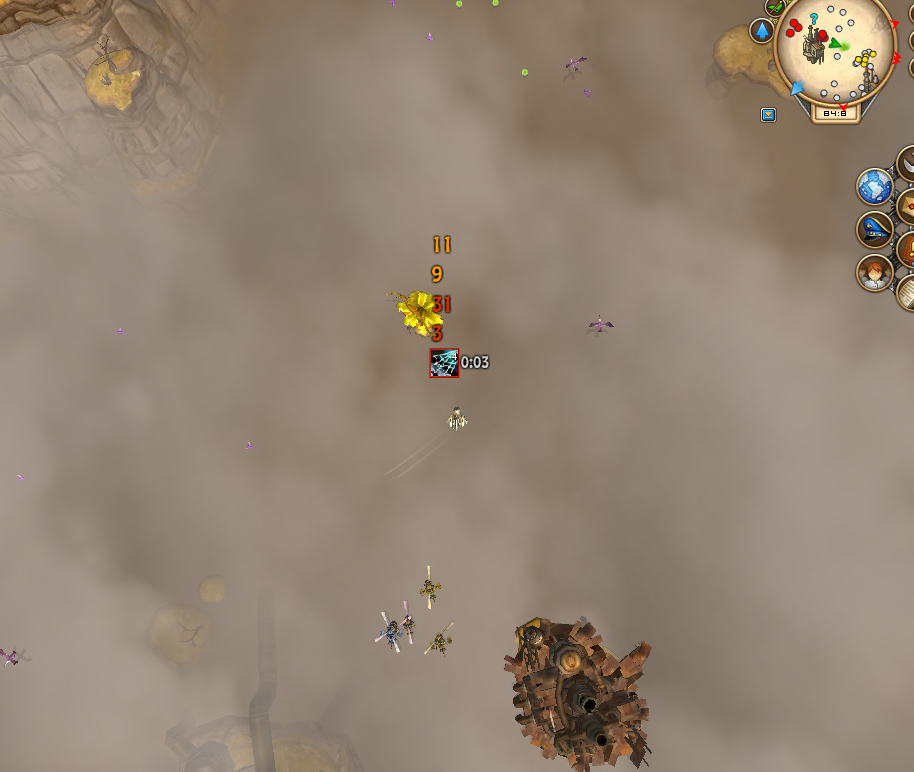dandelion-empty: (389, 286, 445, 339)
fluff: (449, 0, 466, 9), (518, 67, 530, 78), (489, 0, 501, 9)
